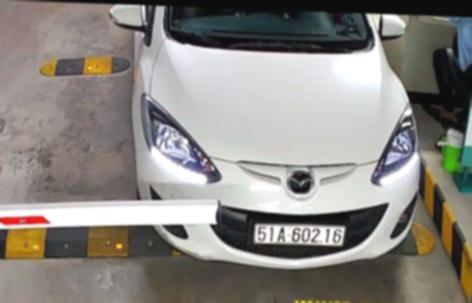License_Plate: (247, 215, 349, 252)
